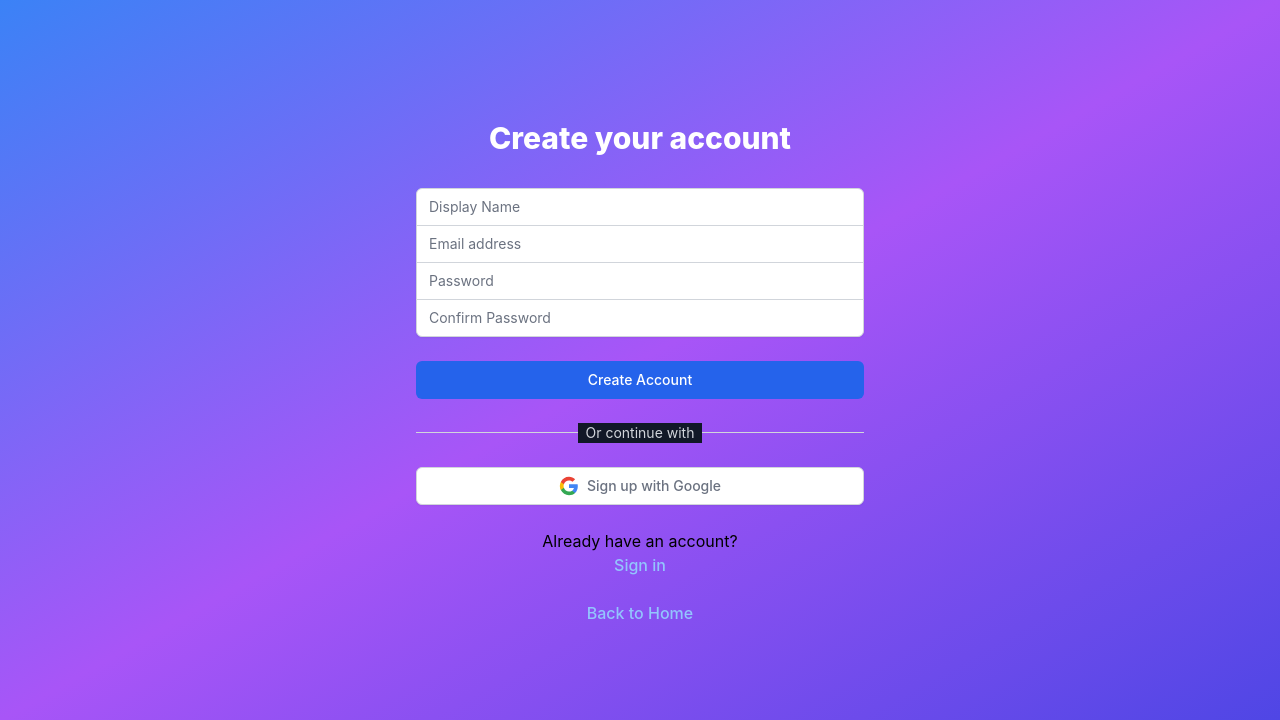
Register Page › Form Validation › shows error for empty password submission
Type "John Doe" into the field with placeholder "Display Name". click: point(640, 206)
box: [416,188,864,226]
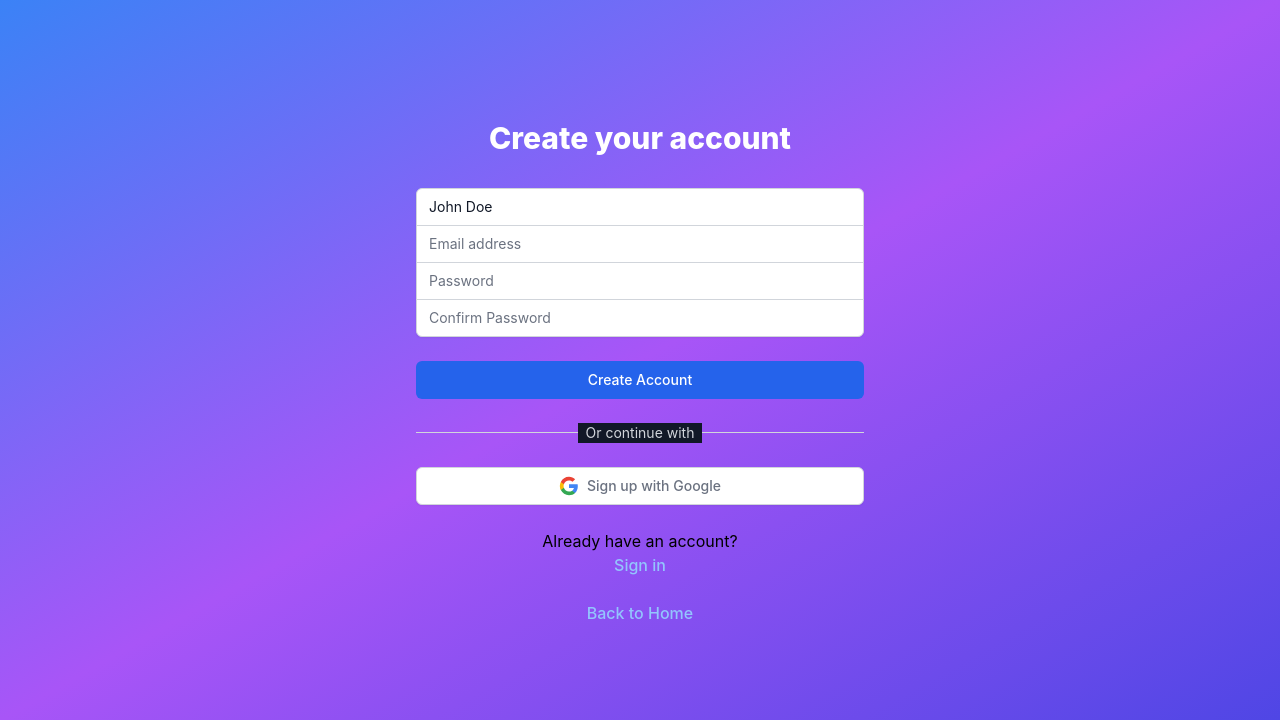
Type "john@example.com" into the field with placeholder "Email address". click: point(640, 244)
box: [416,224,864,262]
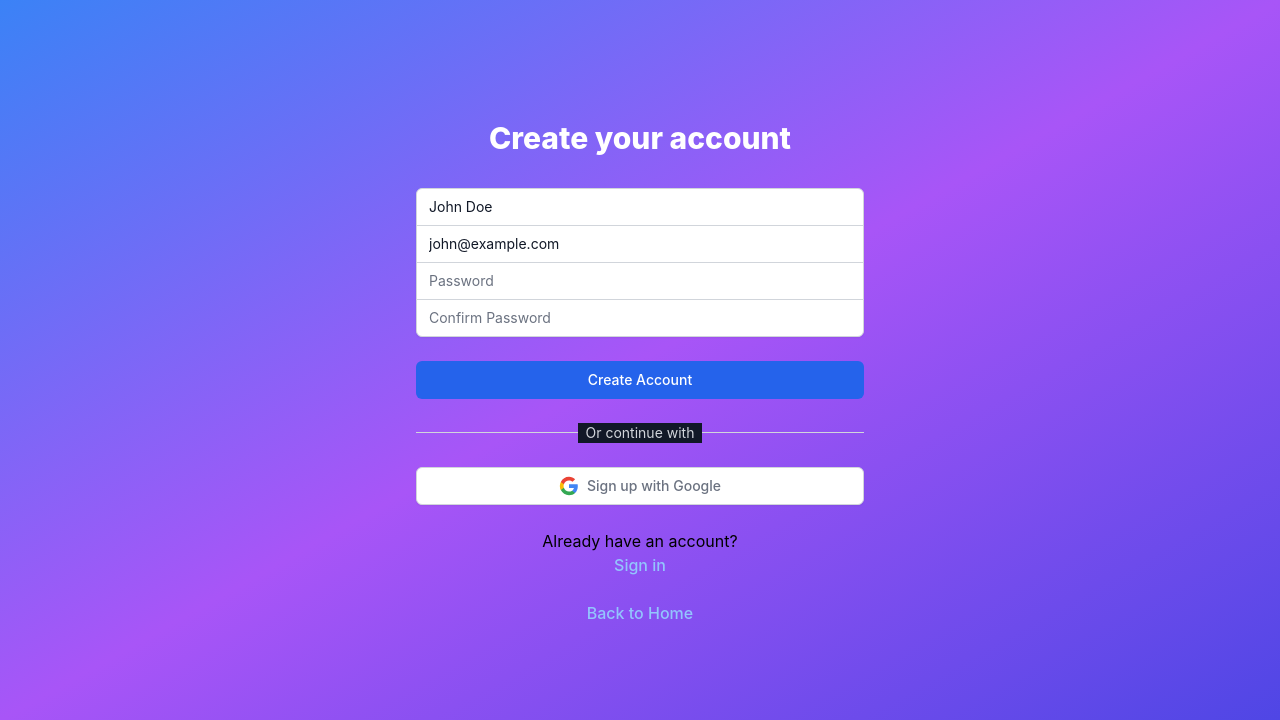
Click the button "Create Account". click: point(640, 380)
box: [416,360,864,398]
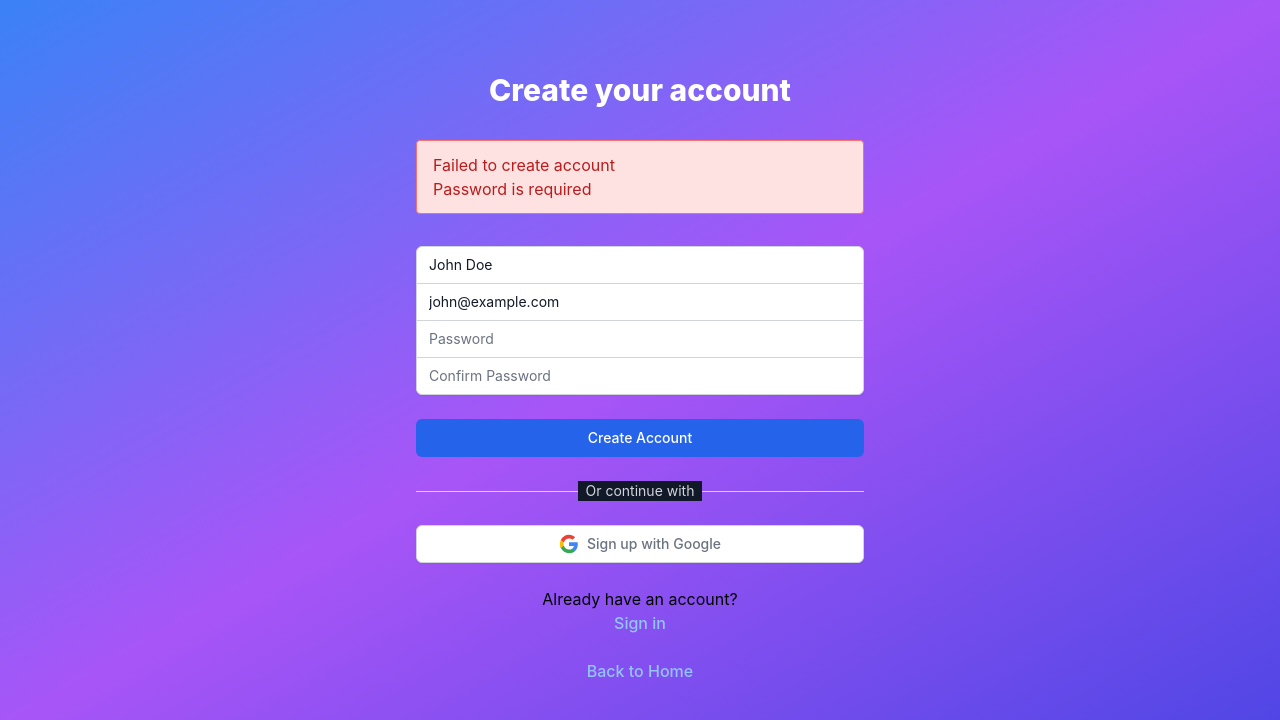
Expected: the text "Failed to create account" is shown, [433,155,615,175]
Expected: the text "Password is required" is shown, [433,179,592,199]
